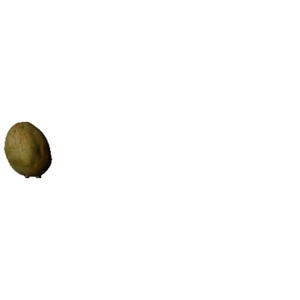mamão: (1, 118, 60, 178)
